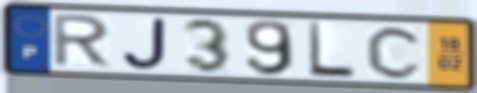3: (181, 17, 234, 74)
9: (243, 19, 297, 78)
C: (364, 24, 427, 81)
J: (120, 16, 169, 72)
L: (306, 20, 359, 80)
R: (49, 13, 115, 69)
